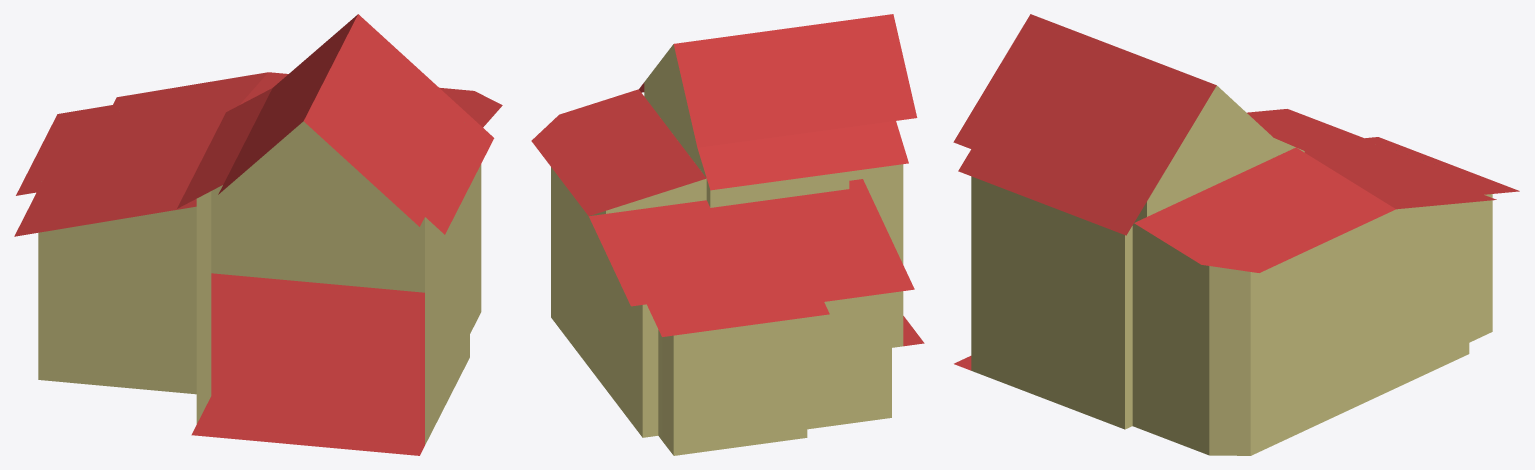
The picture shows the model from 3 angles, left to right: view 1: azimuth 30°, elevation 25°; view 2: azimuth 150°, elevation 25°; view 3: azimuth 270°, elevation 25°; orthographic projection. The views are drawn at different scales.
Bounding box in the file's own units: 18.94 × 21.56 × 13.16.
